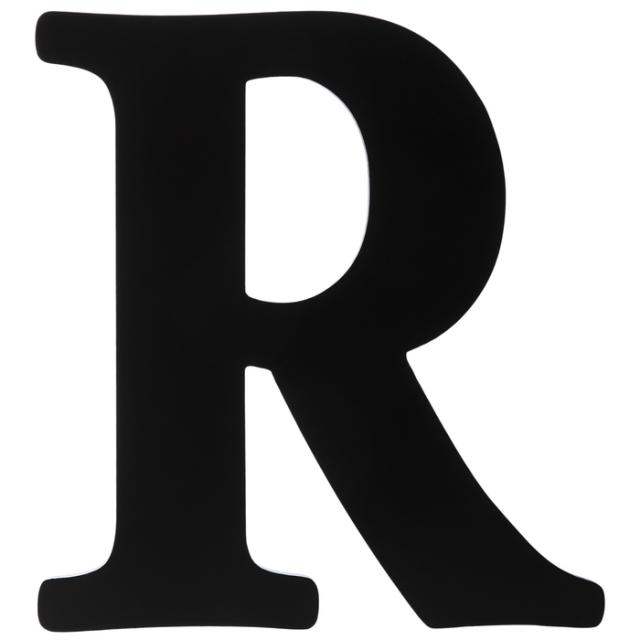R: (13, 0, 640, 634)
